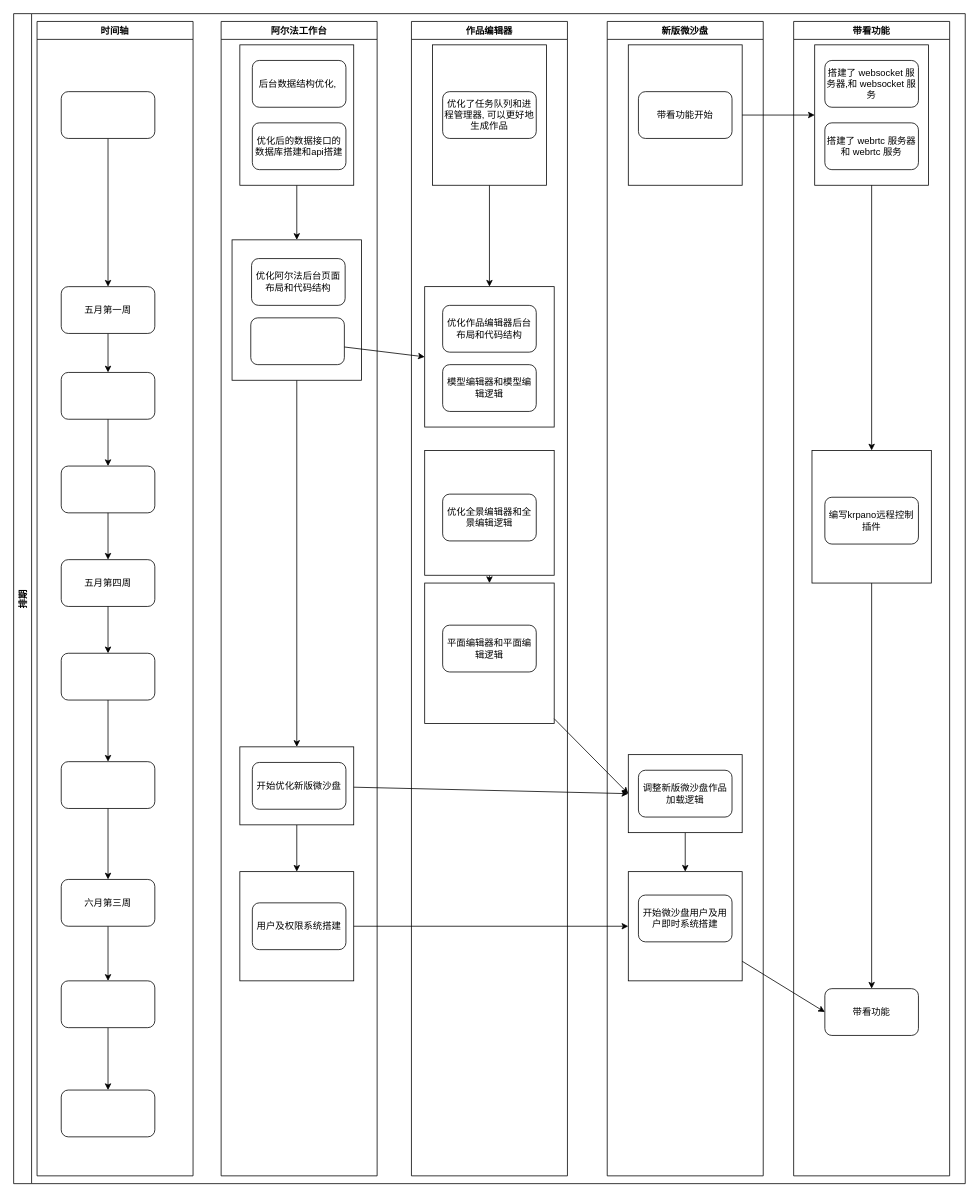
The diagram is 979 pixels wide and 1197 high, and some of its shapes have lost their labels. The centre of each missing label's shape, as x and y in pixels:
"七月及之后" belongs at (x=107, y=1113).
"之前" belongs at (x=107, y=114).
"五月第三周" belongs at (x=107, y=489).
"五月第二周" belongs at (x=107, y=395).
"六月第一周" belongs at (x=107, y=676).
"六月第二周" belongs at (x=107, y=784).
"六月第四周" belongs at (x=107, y=1004).
"开始优化作品编辑器" belongs at (x=297, y=341).
